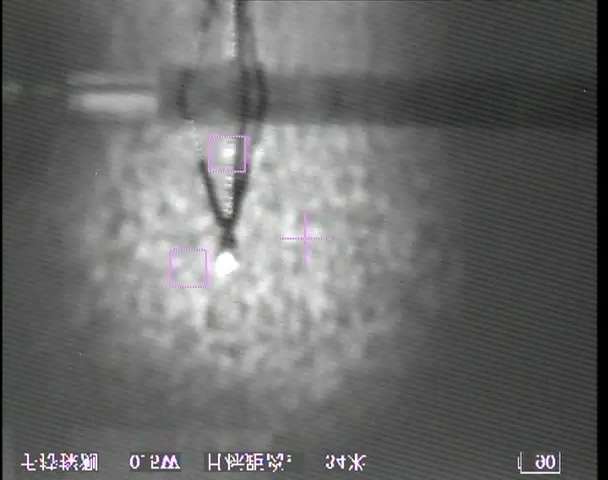my: (213, 251, 240, 280)
